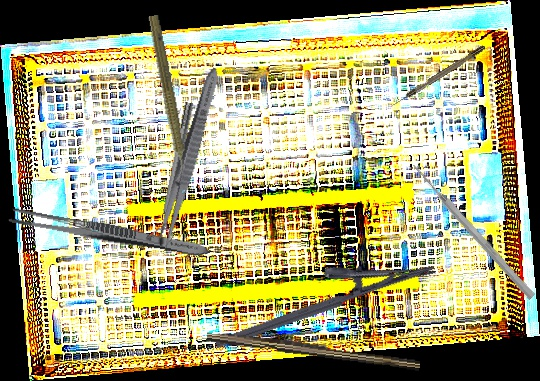Dressing Forceps: (153, 65, 224, 253), (6, 205, 212, 262)
Fixation Ring: (150, 100, 202, 243)
Handpiece: (141, 14, 194, 182)
Hook Surgical: (389, 44, 487, 109)
Needle Holder: (204, 234, 437, 350)
Pusher: (408, 160, 538, 302)
Scalpel Handle: (205, 327, 422, 372)
